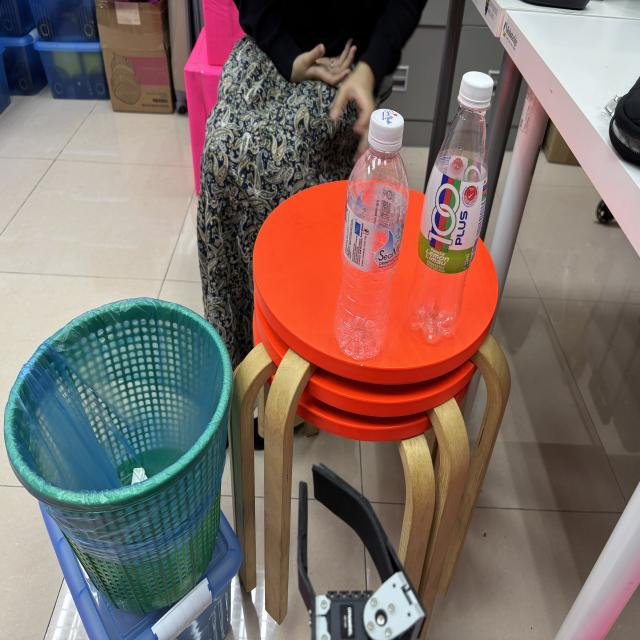dustbin: (4, 288, 236, 609)
plastic_bottle: (410, 57, 498, 354), (335, 98, 410, 380)
